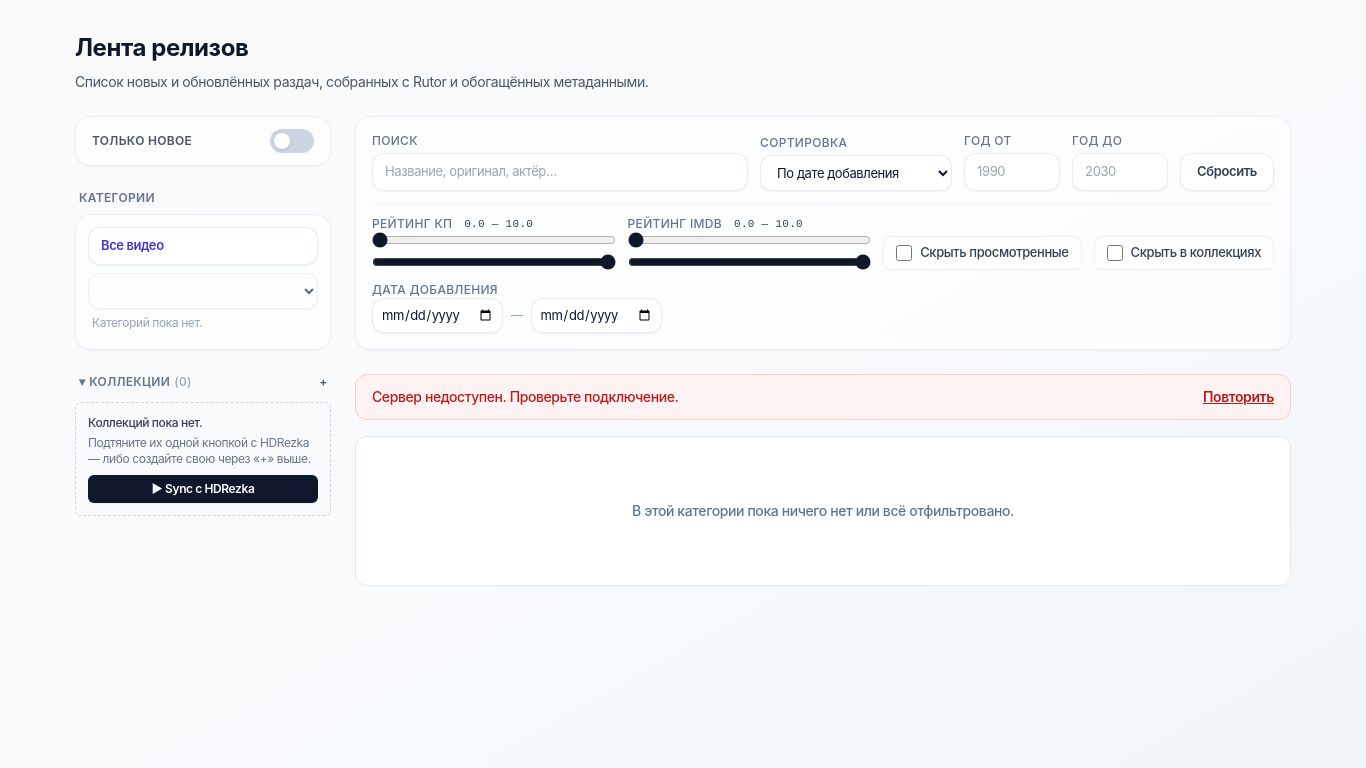
it: FeedView.vue › renders the connection-error banner and retries on click
The image size is (1366, 768).
Expected: the element with test id "feed-connection-error" is shown, x1=355 y1=374 x2=1291 y2=420
Click the button with test id "feed-retry". click: (1238, 397)
box: x1=1203 y1=387 x2=1274 y2=407
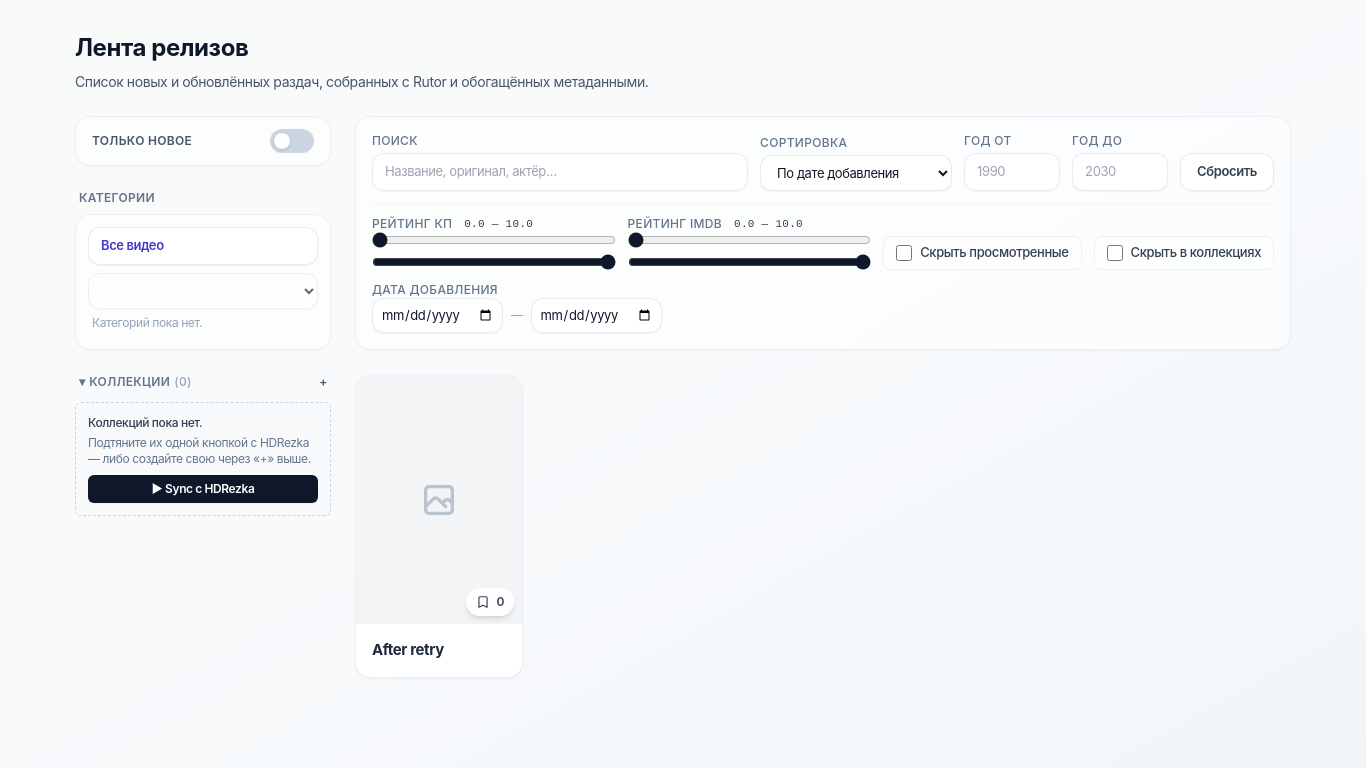
Result: the number of elements with test id "feed-item-card" is 1 at x1=355 y1=374 x2=523 y2=678
